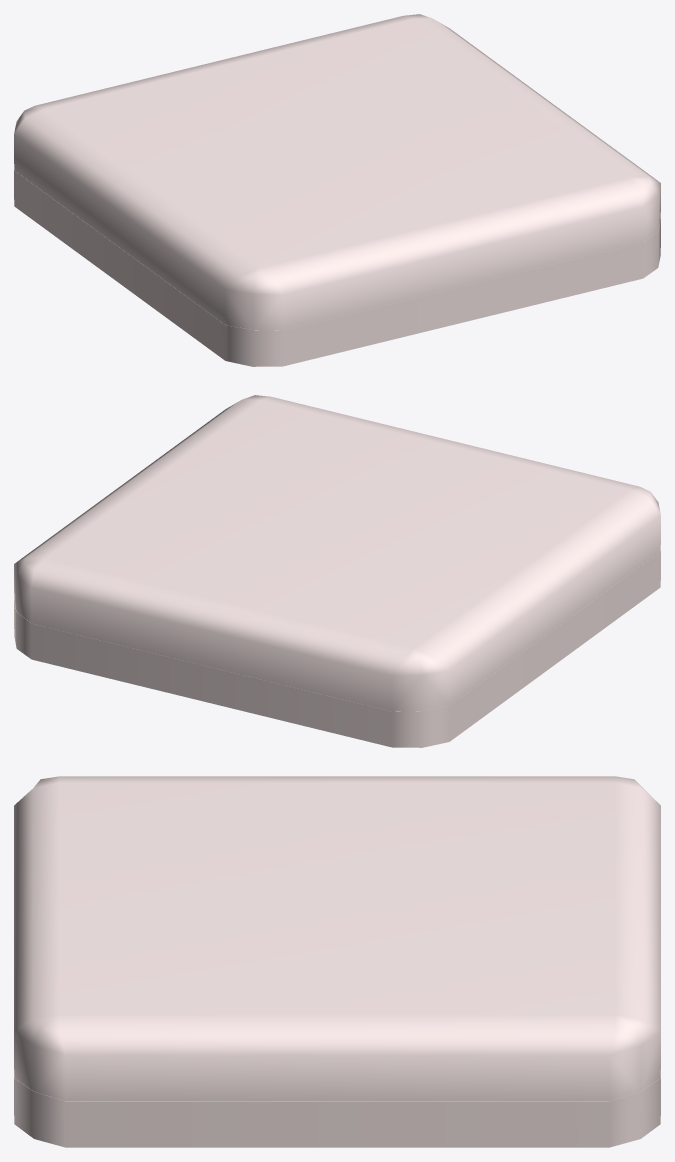
The model's file is Stand.fbx.
3 renders of one model, top to bottom at view 1: azimuth 30°, elevation 25°; view 2: azimuth 150°, elevation 25°; view 3: azimuth 270°, elevation 25°, orthographic. The views are drawn at different scales.
Parts seen in each view (by area): view 1: Stand_up, Stand_under; view 2: Stand_up, Stand_under; view 3: Stand_up, Stand_under.
Boxes of the visible parts, x1,y1,x2,y2 form: Stand_up: (14, 14, 660, 330); Stand_under: (14, 170, 660, 366); Stand_up: (14, 395, 660, 711); Stand_under: (14, 551, 660, 747); Stand_up: (14, 776, 660, 1101); Stand_under: (14, 1070, 660, 1147).
Bounding box in the file's own units: 117 × 22.61 × 117.
